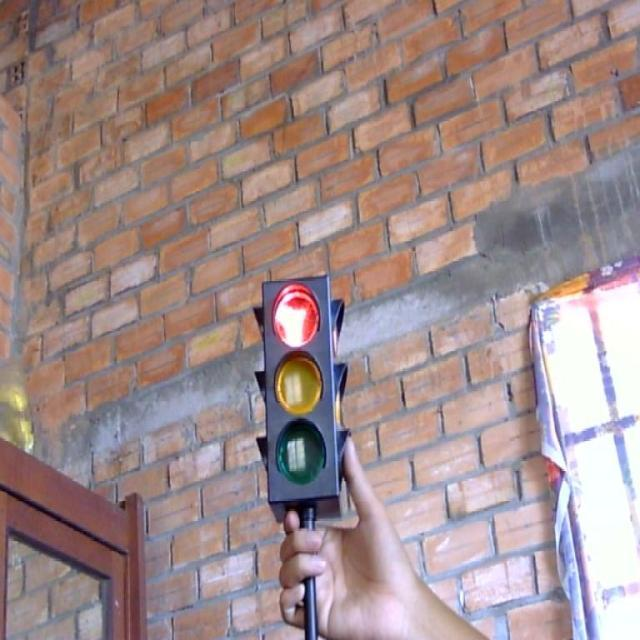red light: (266, 280, 324, 348)
